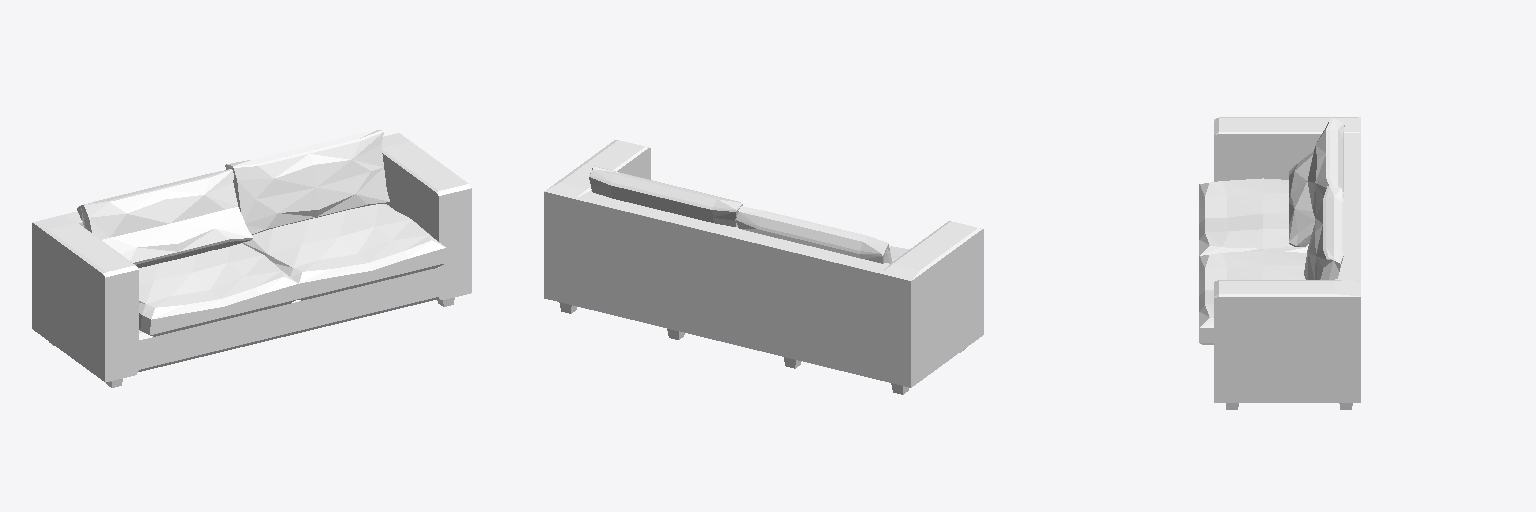
The model's file is product_3.obj.
3 renders of one model, left to right at view 1: azimuth 30°, elevation 25°; view 2: azimuth 150°, elevation 25°; view 3: azimuth 270°, elevation 25°, orthographic.
Size of the model in its own units: 0.0438 by 0.0162 by 0.0166.